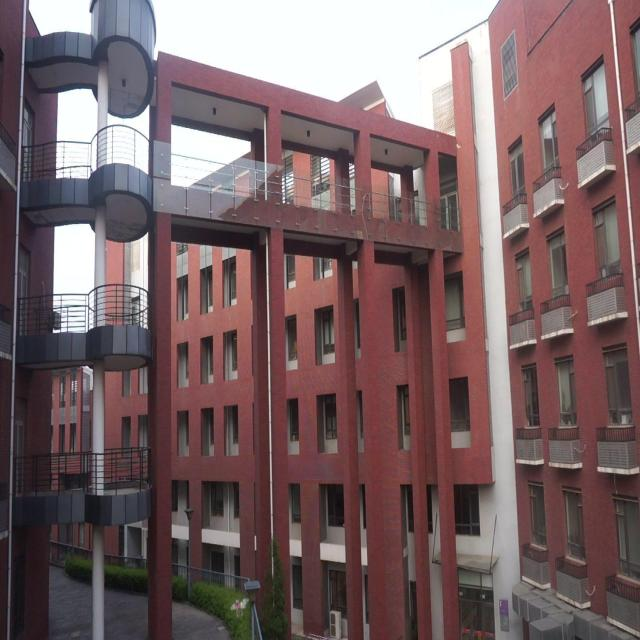drone: (225, 594, 253, 618)
